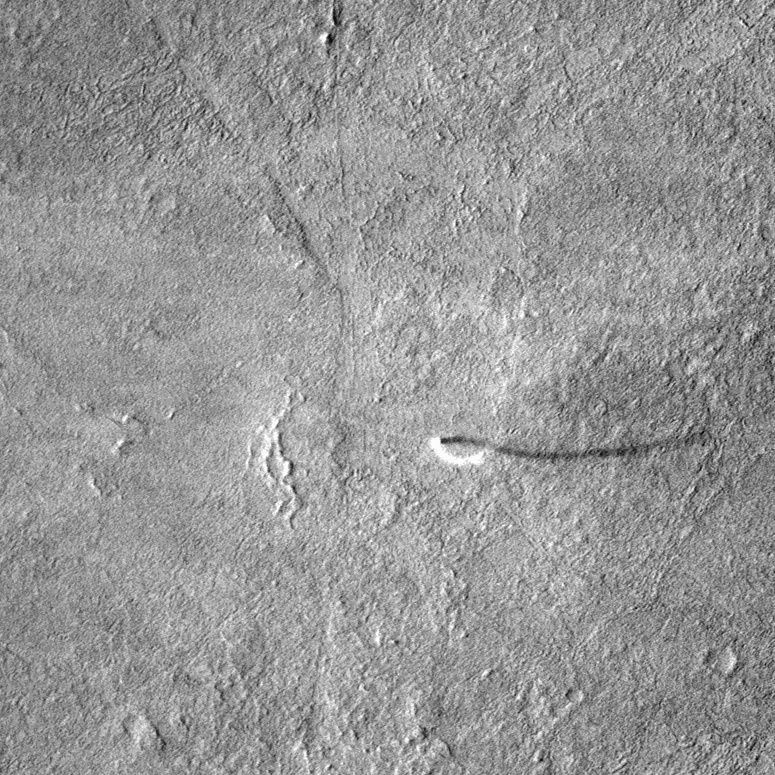dust_devil: (425, 426, 707, 470)
